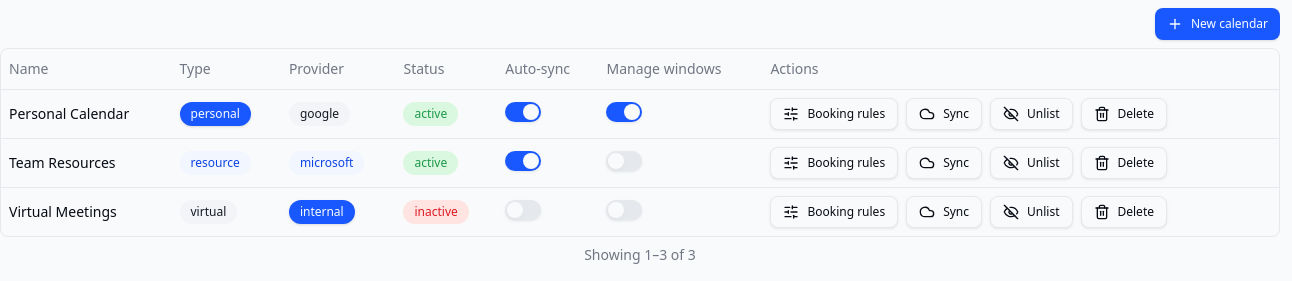
Test case: CalendarsTable › sync calendar action › disables sync button while mutation is in progress
The image size is (1292, 281).
expect the text "Personal Calendar" is shown: met, box [9,104,129,122]
Note: Click the first sync button.
Click the button "Sync" in the row of "Personal Calendar" at (944, 114), box [906,98,982,130]
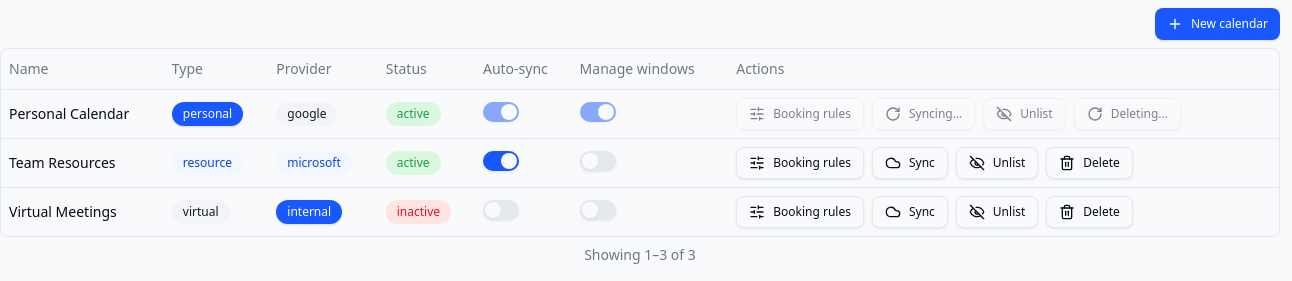
expect the button "Syncing…" is shown: met, box [872,98,975,130]
